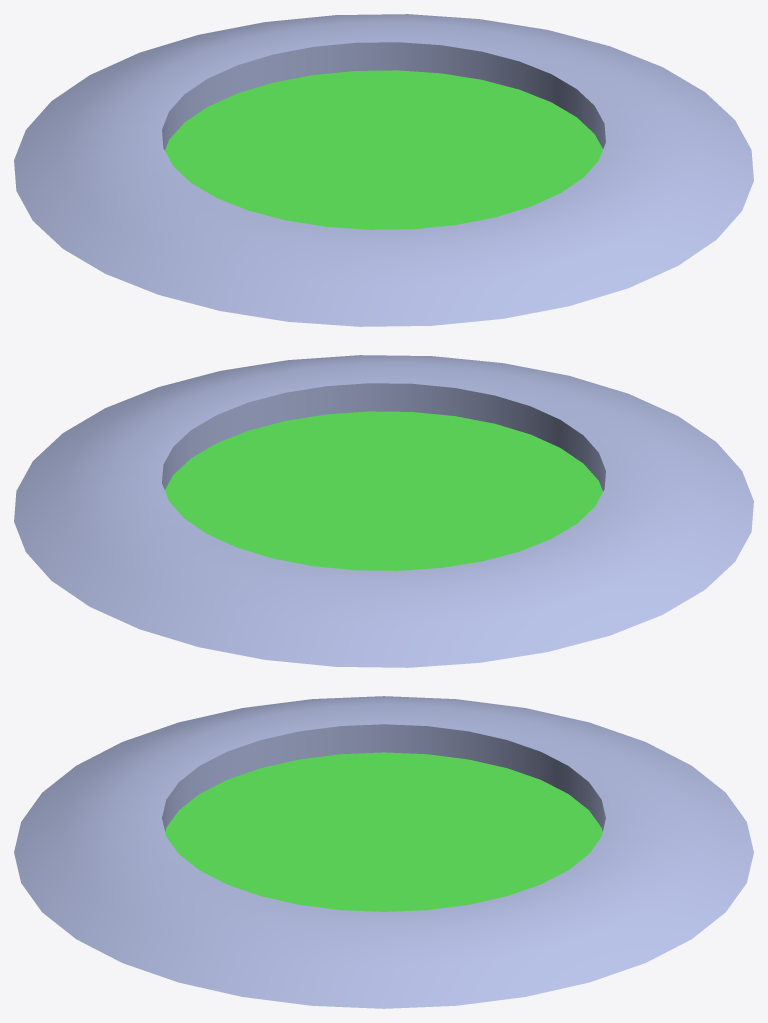
File: playerStartPos.fbx
3 renders of one model, top to bottom at view 1: azimuth 30°, elevation 25°; view 2: azimuth 150°, elevation 25°; view 3: azimuth 270°, elevation 25°, orthographic.
Parts seen in each view (by area): view 1: Plane; view 2: Plane; view 3: Plane.
Part boxes in pixels (bbox=[...]): Plane: bbox=[14, 14, 753, 326]; Plane: bbox=[14, 355, 753, 667]; Plane: bbox=[14, 696, 753, 1008].
Size of the model in its own units: 162 by 8.28 by 162.
